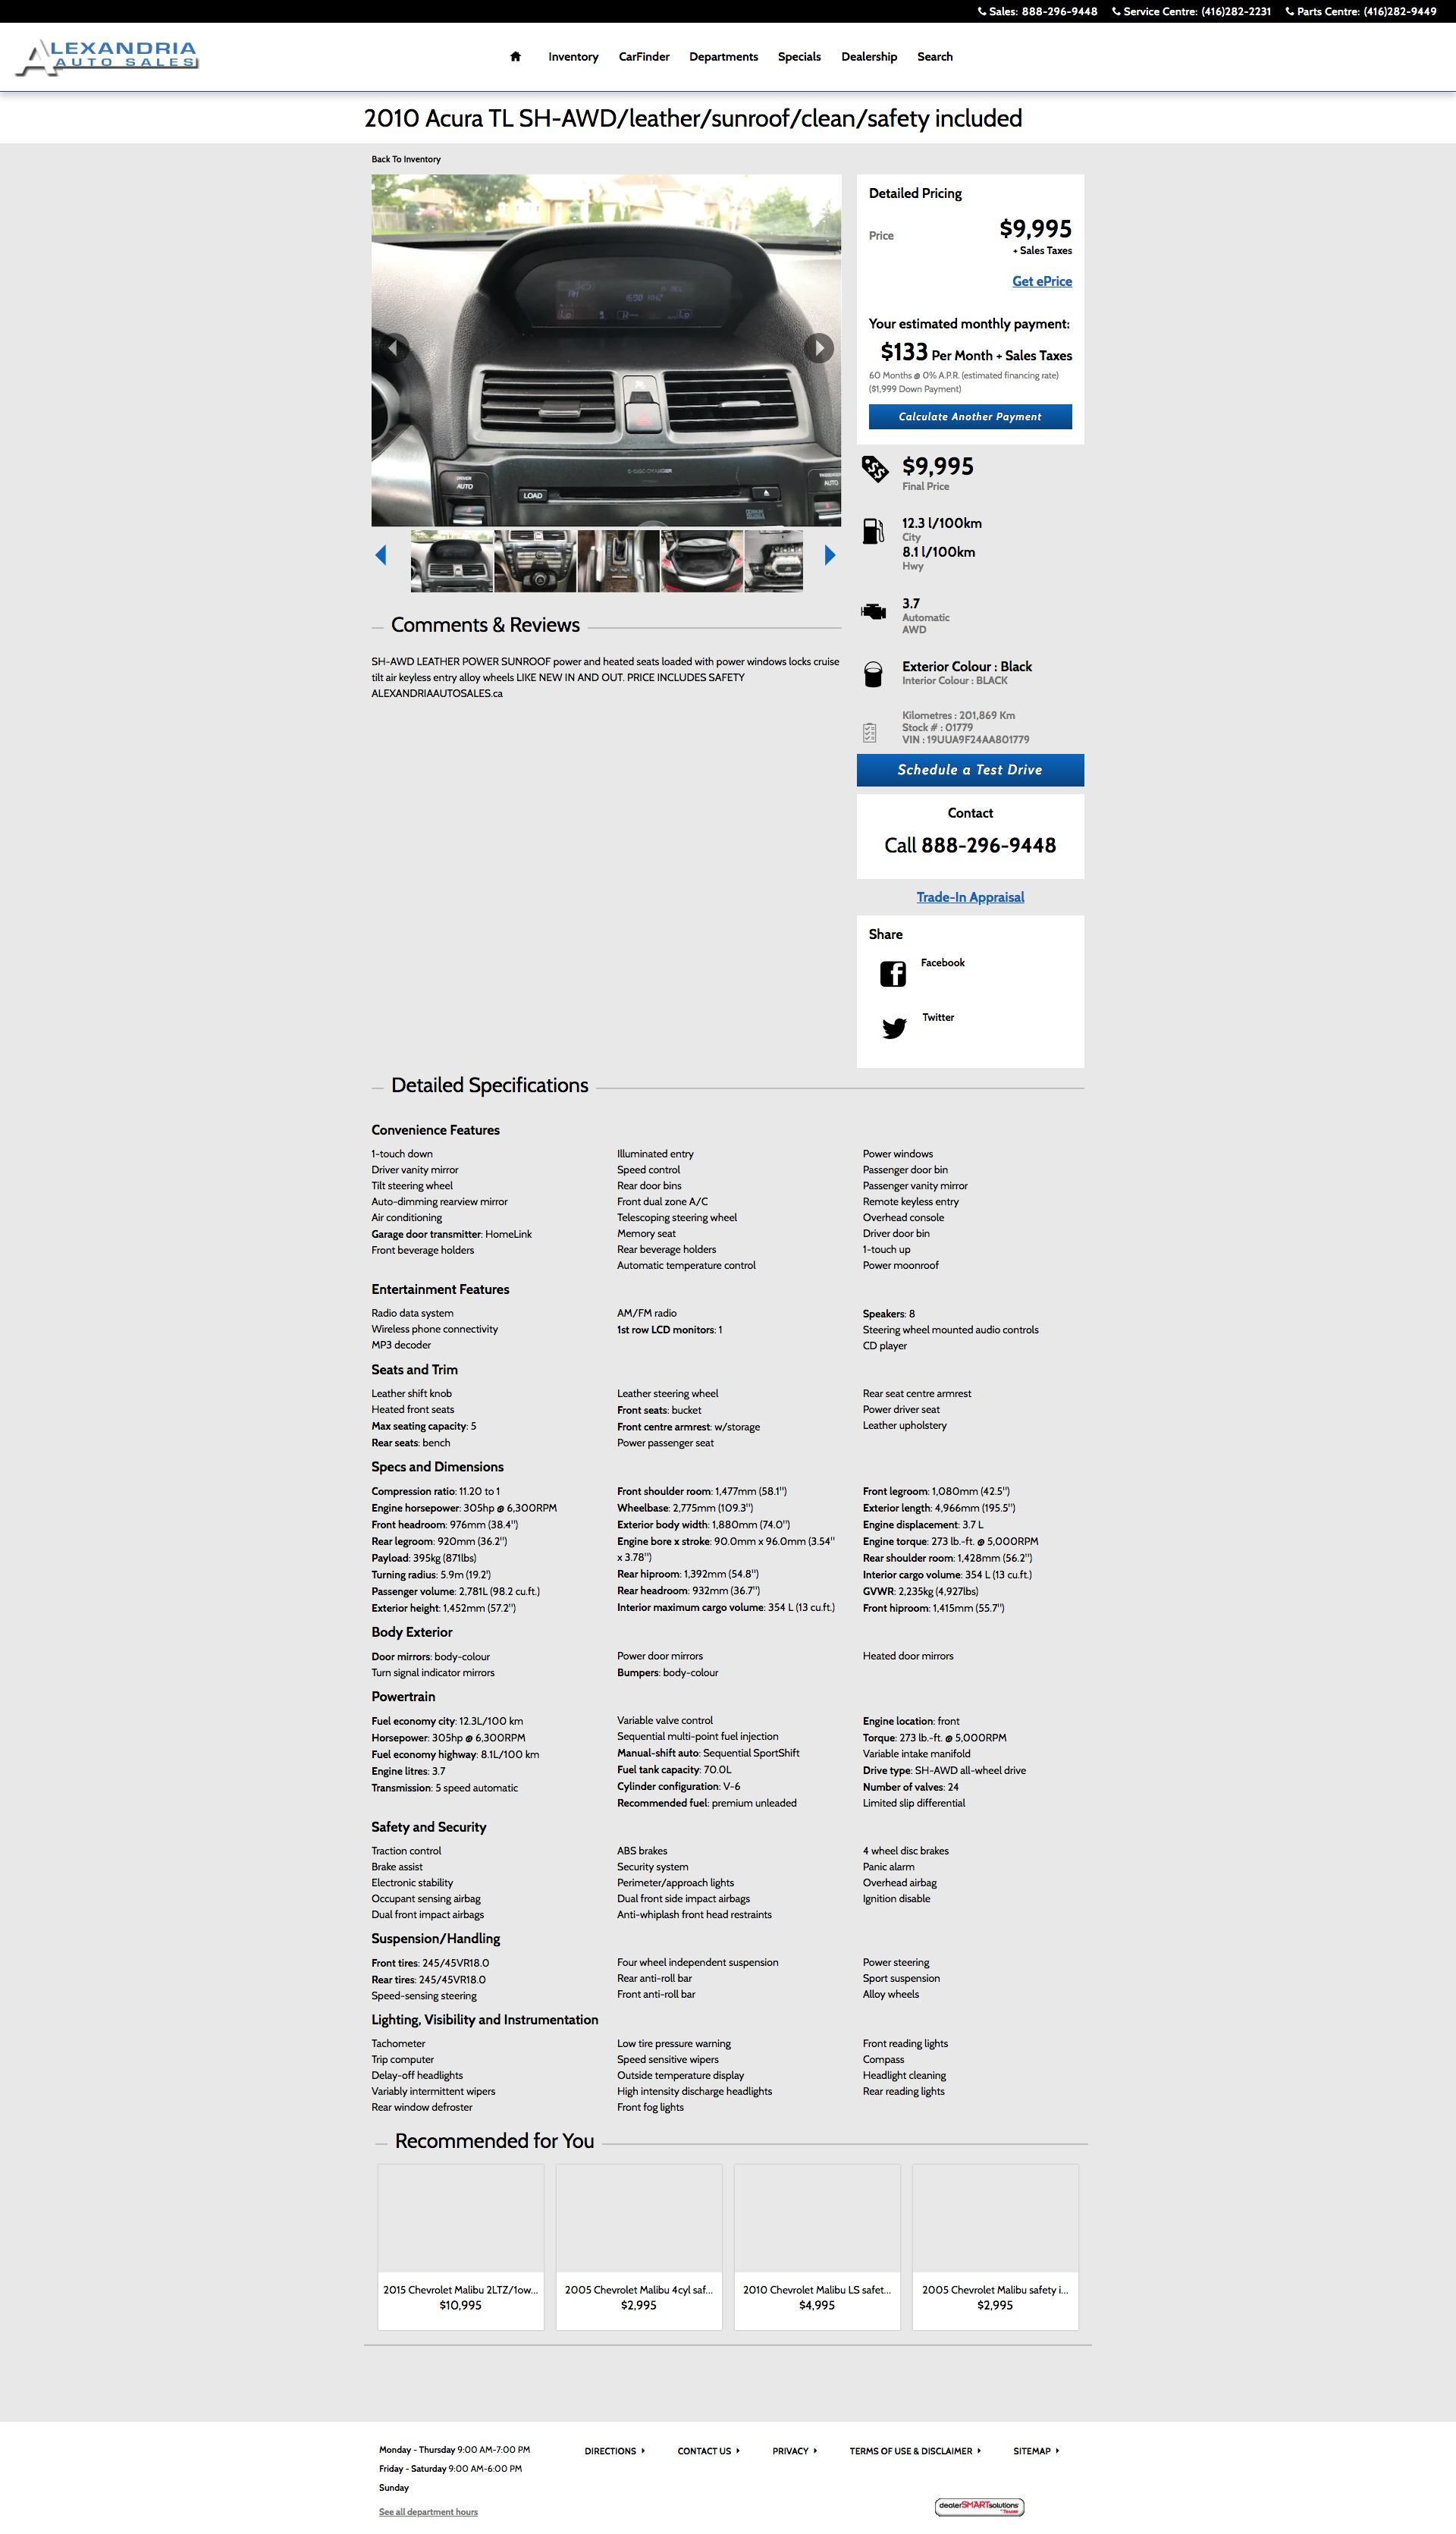car: (823, 545, 837, 567)
